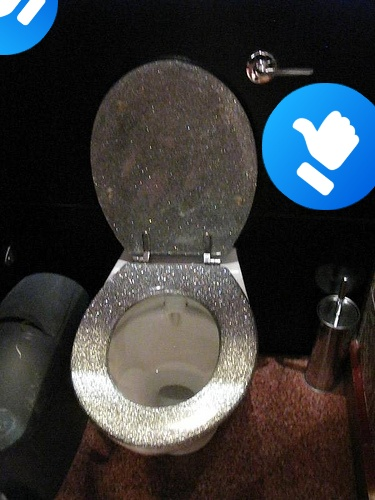like: (262, 83, 375, 210), (0, 0, 58, 55)
